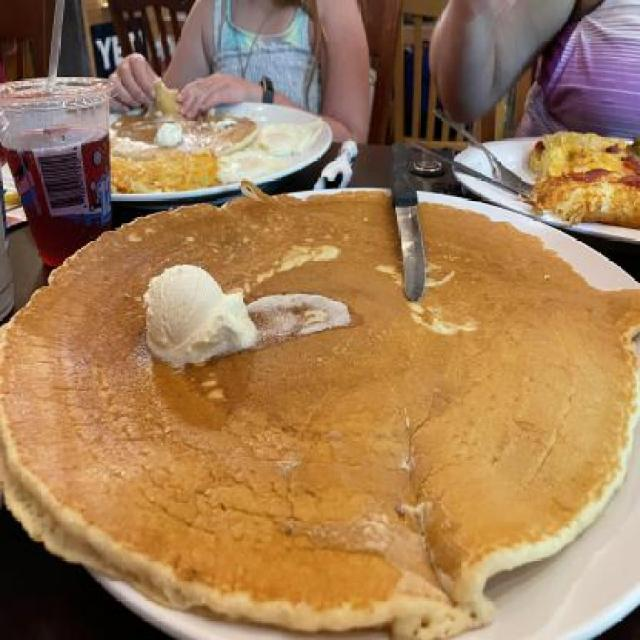ice cream: (140, 260, 266, 368), (152, 122, 186, 147)
omelette: (524, 135, 638, 231), (102, 154, 235, 186)
pancakes: (4, 186, 638, 639), (108, 84, 263, 158)
